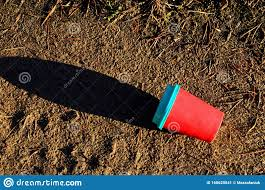paper_cup: (152, 83, 222, 145)
